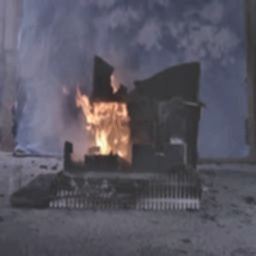fire: (73, 76, 141, 166)
